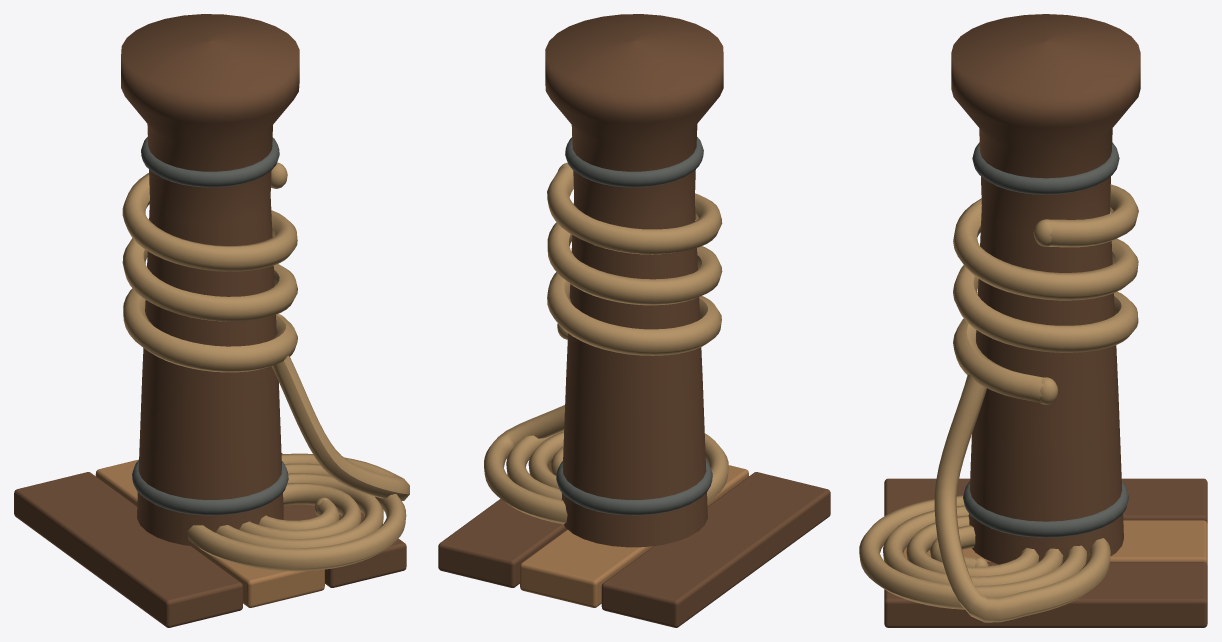
File: detail_mooring_post.glb
3 renders of one model, left to right at view 1: azimuth 30°, elevation 25°; view 2: azimuth 150°, elevation 25°; view 3: azimuth 270°, elevation 25°, orthographic. The views are drawn at different scales.
Visible parts, largest first — view 1: wood, cloth, metal; view 2: wood, cloth, metal; view 3: wood, cloth, metal.
Boxes of the visible parts, x1,y1,x2,y2 form: wood: [14, 14, 406, 627]; cloth: [122, 162, 409, 571]; metal: [132, 136, 288, 515]; wood: [438, 14, 830, 627]; cloth: [484, 162, 728, 524]; metal: [556, 137, 712, 515]; wood: [884, 14, 1207, 627]; cloth: [859, 184, 1138, 622]; metal: [963, 142, 1128, 537].
Size of the model in its own units: 0.6 by 1 by 0.6.
